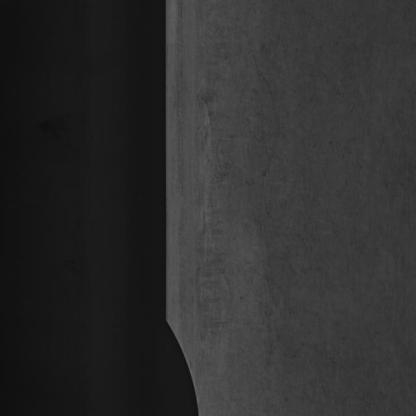crescent_gap: (159, 294, 206, 416)
